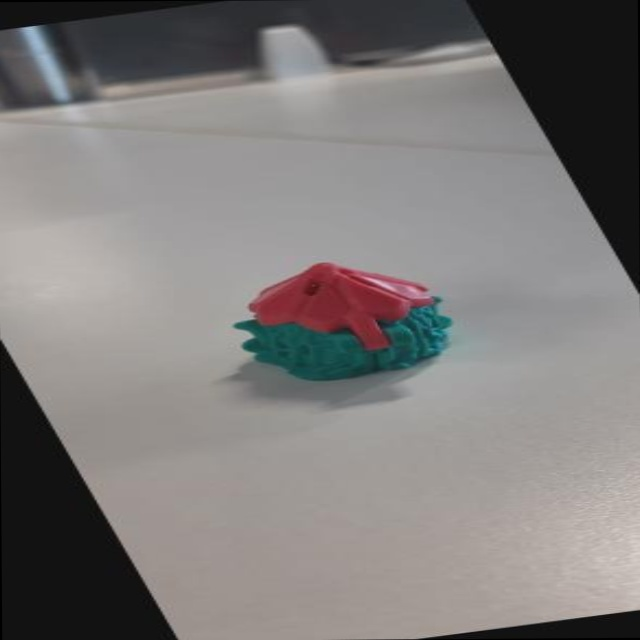House: (183, 242, 488, 393)
